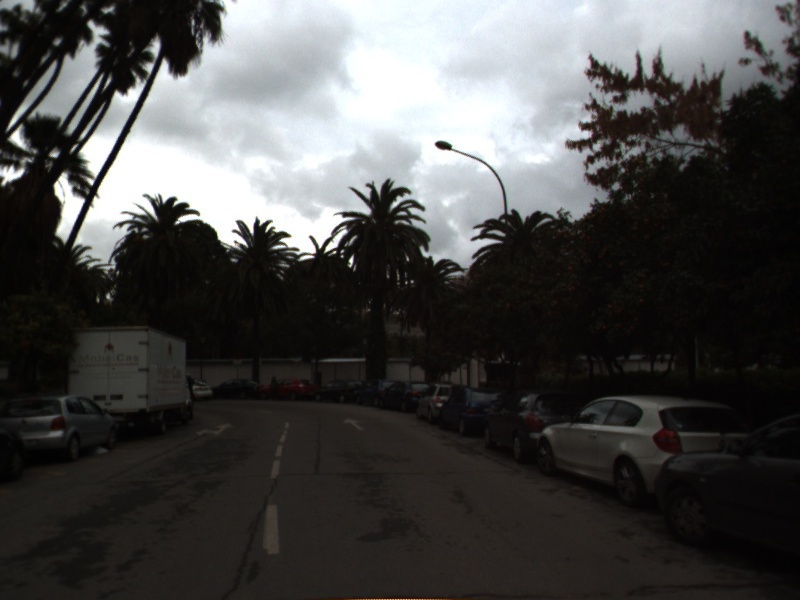STRAIGHT: (340, 415, 367, 432)
STRAIGHT_LEFT: (193, 421, 237, 439)
